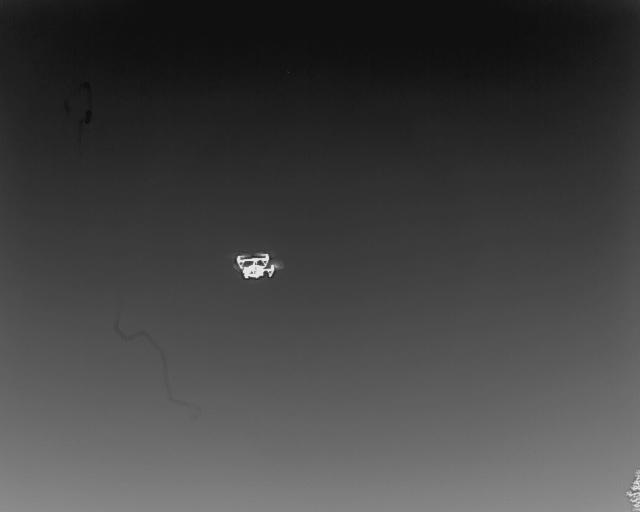drone: (225, 245, 287, 287)
